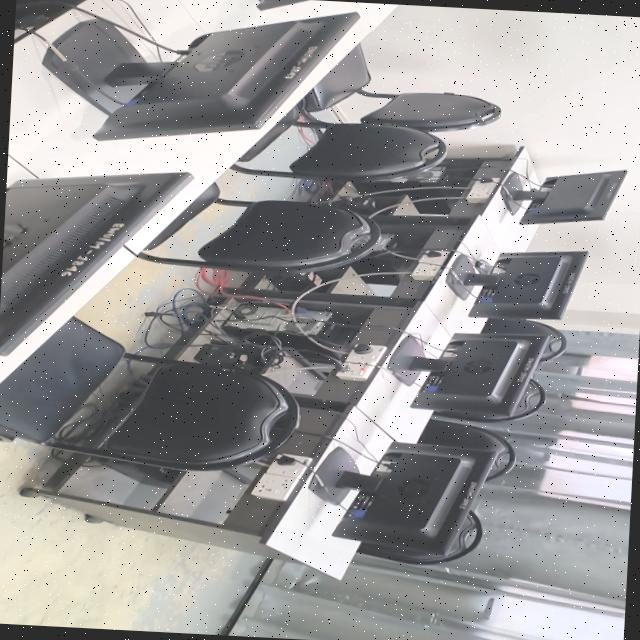Chair: (8, 331, 298, 473), (178, 183, 378, 270), (320, 41, 506, 128), (260, 112, 448, 187), (420, 418, 526, 456), (452, 516, 492, 562), (516, 376, 552, 421), (545, 328, 571, 360)
Cpu: (225, 304, 338, 334)
Monitor: (0, 153, 173, 355), (48, 9, 303, 132), (301, 438, 494, 552), (419, 328, 524, 418), (452, 248, 572, 320), (501, 168, 624, 224)
